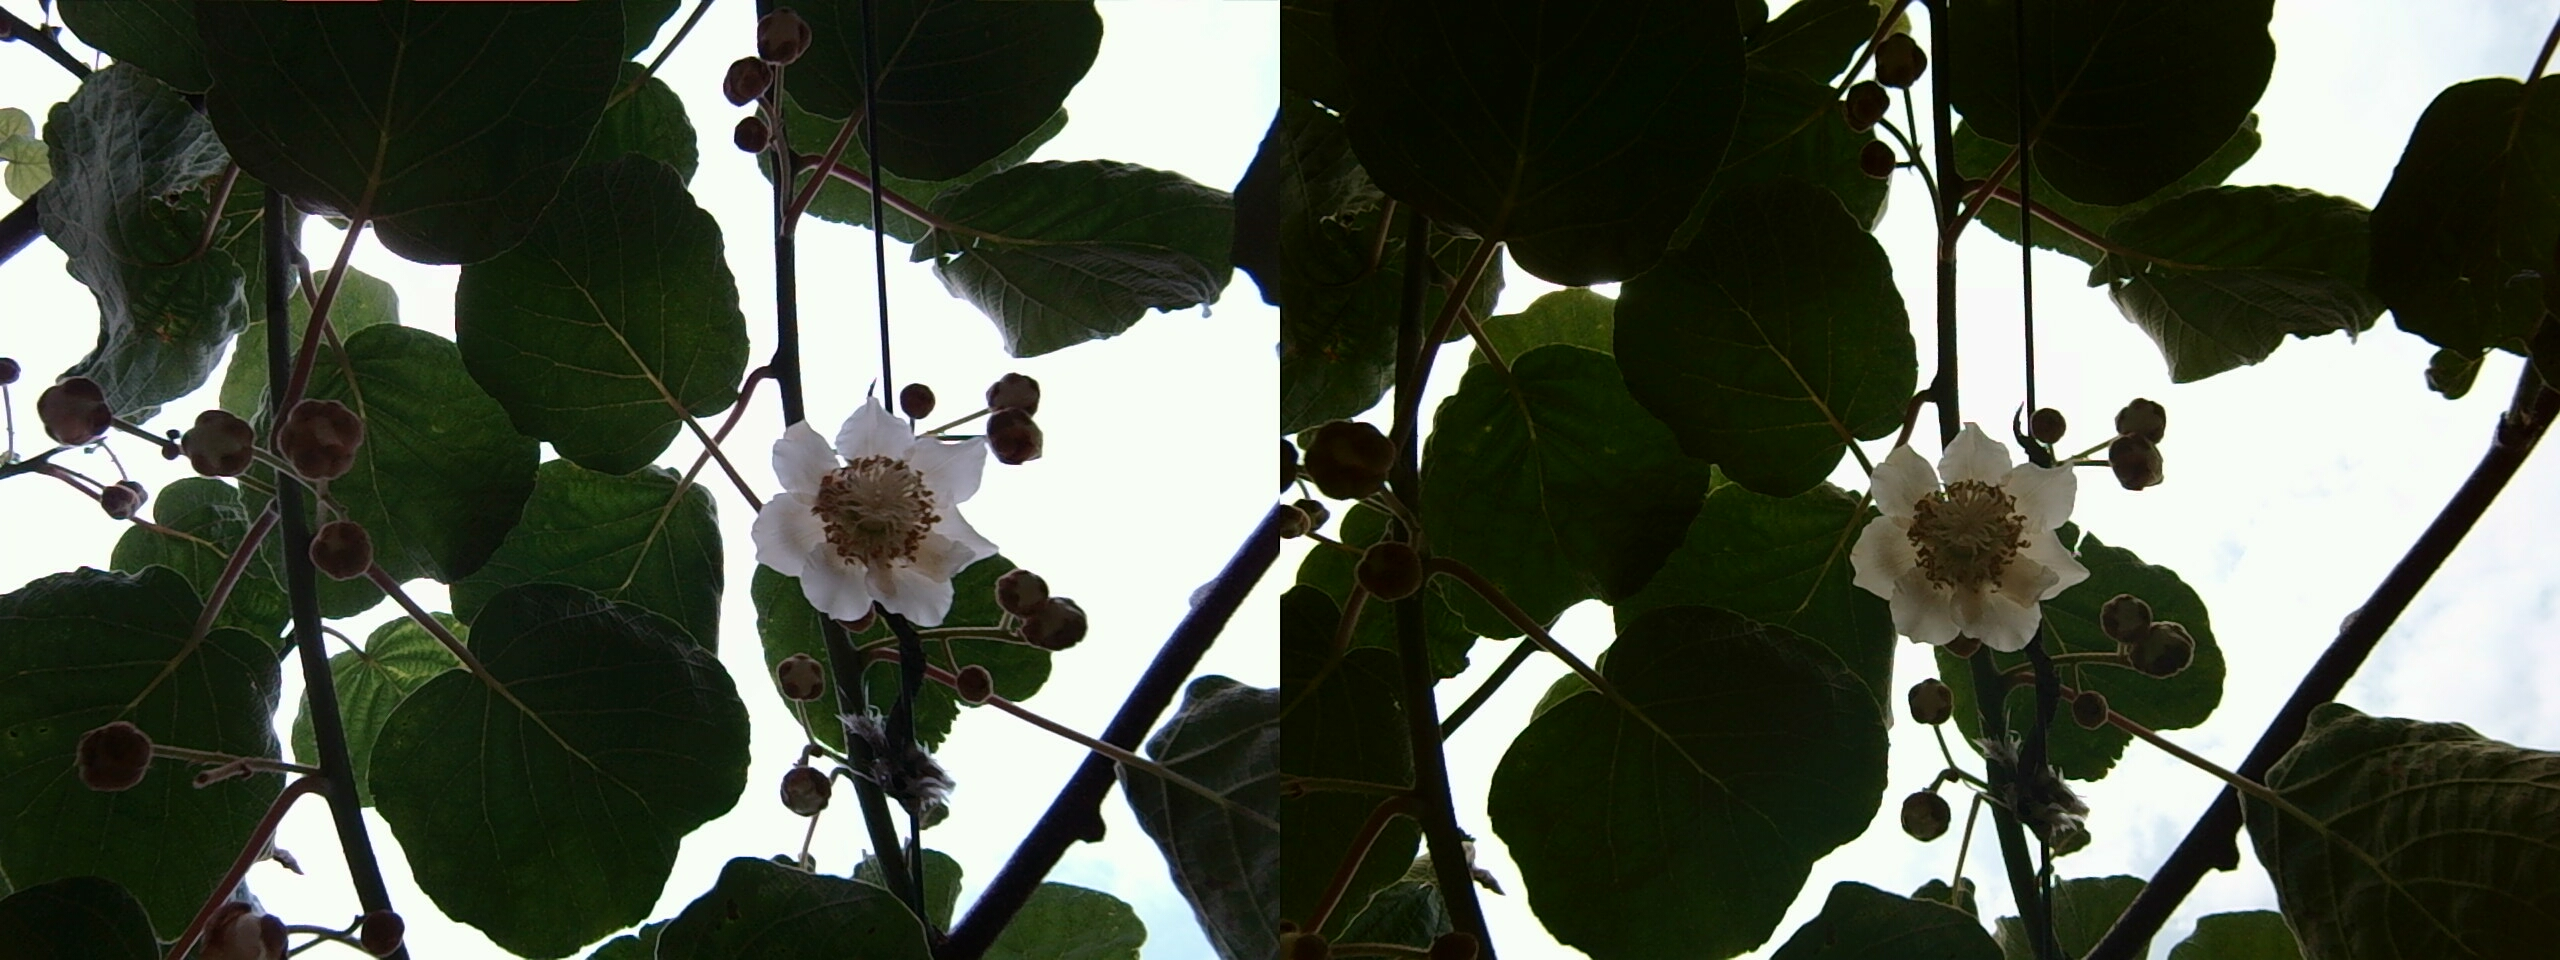flower: (1842, 416, 2093, 653), (748, 393, 998, 624)
